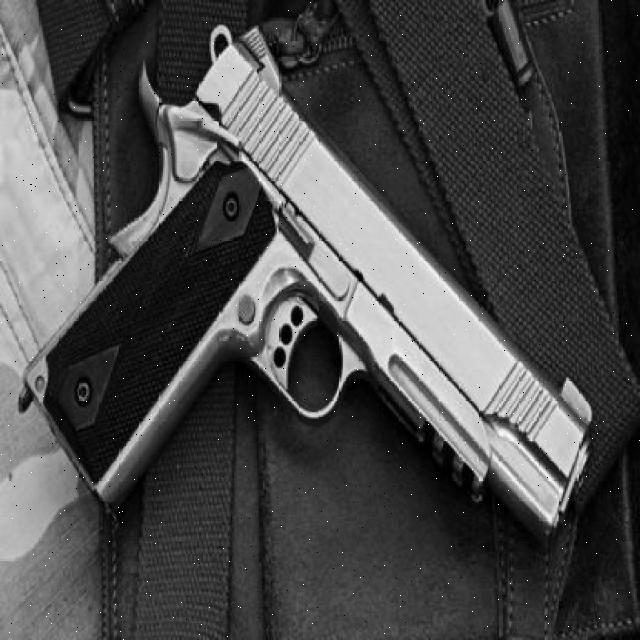gun: (12, 15, 600, 555)
